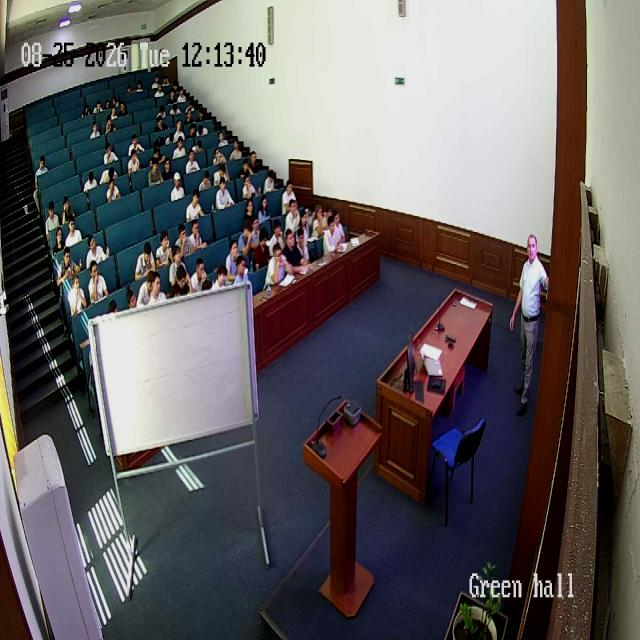person: (510, 233, 548, 413), (264, 241, 290, 289), (282, 230, 306, 273), (66, 275, 88, 321), (85, 232, 109, 271), (322, 212, 344, 254), (89, 259, 109, 305), (251, 227, 271, 273), (134, 241, 156, 282), (238, 223, 256, 273), (57, 245, 75, 291), (224, 238, 244, 276), (215, 174, 235, 212), (169, 243, 187, 284), (154, 230, 173, 268), (136, 268, 154, 308), (190, 257, 210, 293), (293, 230, 311, 270), (34, 155, 48, 205), (176, 221, 194, 259), (172, 264, 192, 298), (232, 253, 252, 287), (64, 218, 82, 255), (242, 166, 260, 202), (147, 273, 167, 305), (185, 191, 205, 223), (284, 198, 301, 235), (188, 217, 206, 251), (212, 259, 232, 289), (281, 180, 297, 216), (45, 198, 60, 236), (170, 172, 186, 205), (99, 162, 115, 195), (105, 170, 121, 202), (83, 170, 99, 200), (240, 197, 256, 225), (148, 160, 164, 187), (59, 195, 76, 219), (124, 286, 140, 311), (211, 146, 229, 168), (314, 204, 325, 240), (257, 195, 271, 223), (184, 147, 199, 173), (129, 129, 145, 153), (124, 152, 141, 174), (213, 164, 230, 186), (174, 135, 189, 158), (54, 226, 68, 250), (299, 208, 310, 238), (104, 142, 120, 162), (162, 152, 174, 178), (232, 136, 243, 163), (174, 120, 186, 144), (148, 149, 166, 165), (246, 151, 258, 175), (263, 168, 275, 192), (100, 116, 115, 135), (167, 82, 177, 108), (200, 171, 213, 191), (216, 130, 230, 148), (159, 69, 171, 89), (177, 82, 187, 106), (196, 120, 209, 138), (190, 138, 203, 156), (134, 76, 146, 95), (154, 116, 166, 135), (240, 158, 252, 177), (168, 99, 181, 115), (184, 96, 197, 112), (88, 121, 100, 138), (156, 102, 167, 119), (150, 72, 160, 90), (155, 82, 165, 100), (154, 135, 166, 149), (167, 128, 177, 144), (82, 104, 93, 118), (102, 94, 111, 110), (124, 78, 133, 94), (198, 102, 206, 119), (188, 122, 196, 139), (94, 99, 104, 112), (184, 108, 192, 124), (111, 90, 118, 108), (120, 97, 126, 116), (111, 106, 119, 119)
